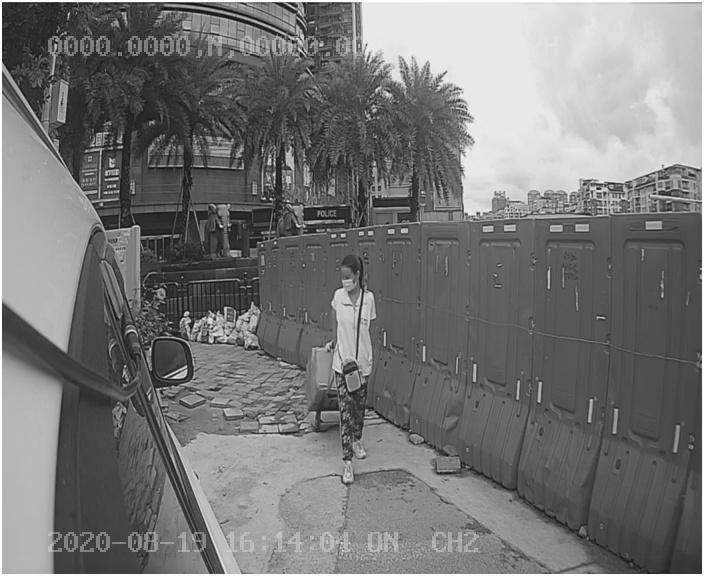person: (315, 251, 399, 487)
